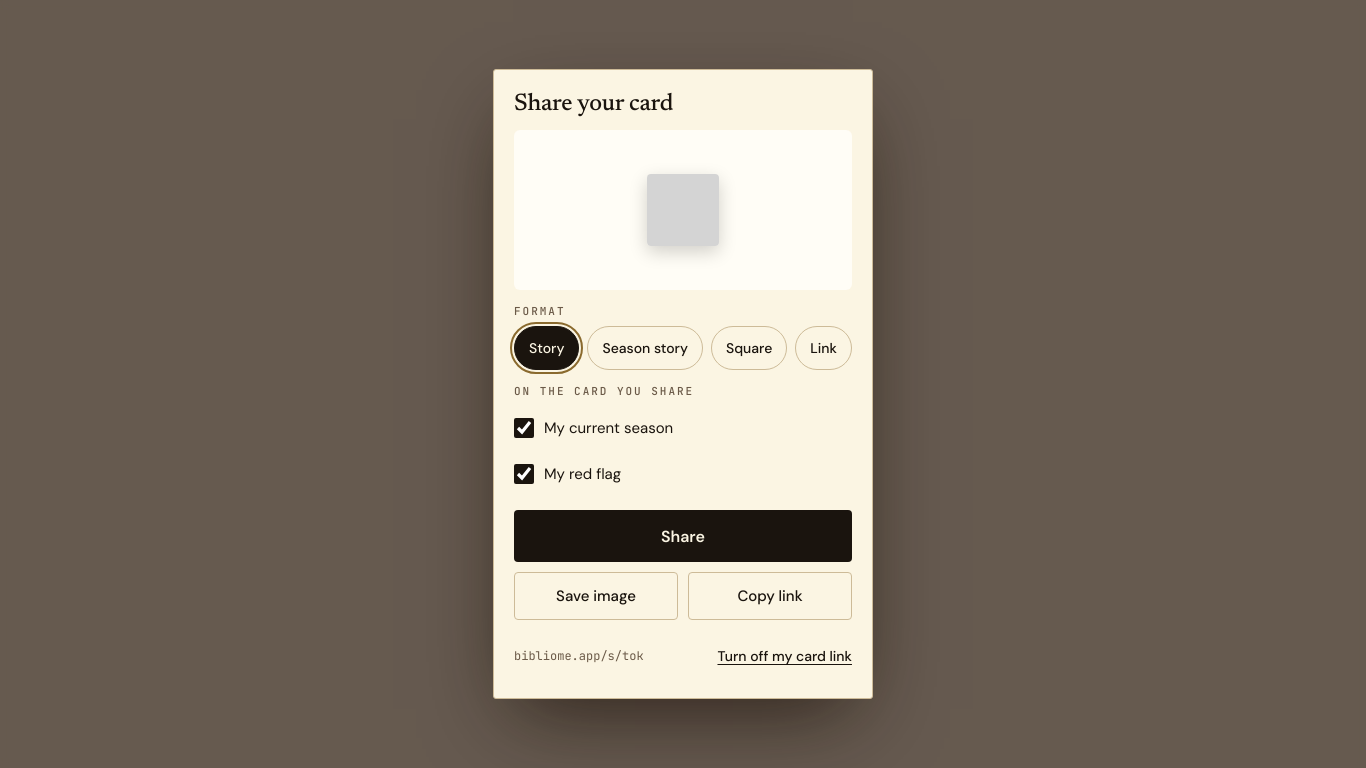
ShareSheet › offers the season story while a season is on, and drops it when switched off
Step 1. Click the radio button labelled "Season story" → [645, 348], box [587,326,703,370]
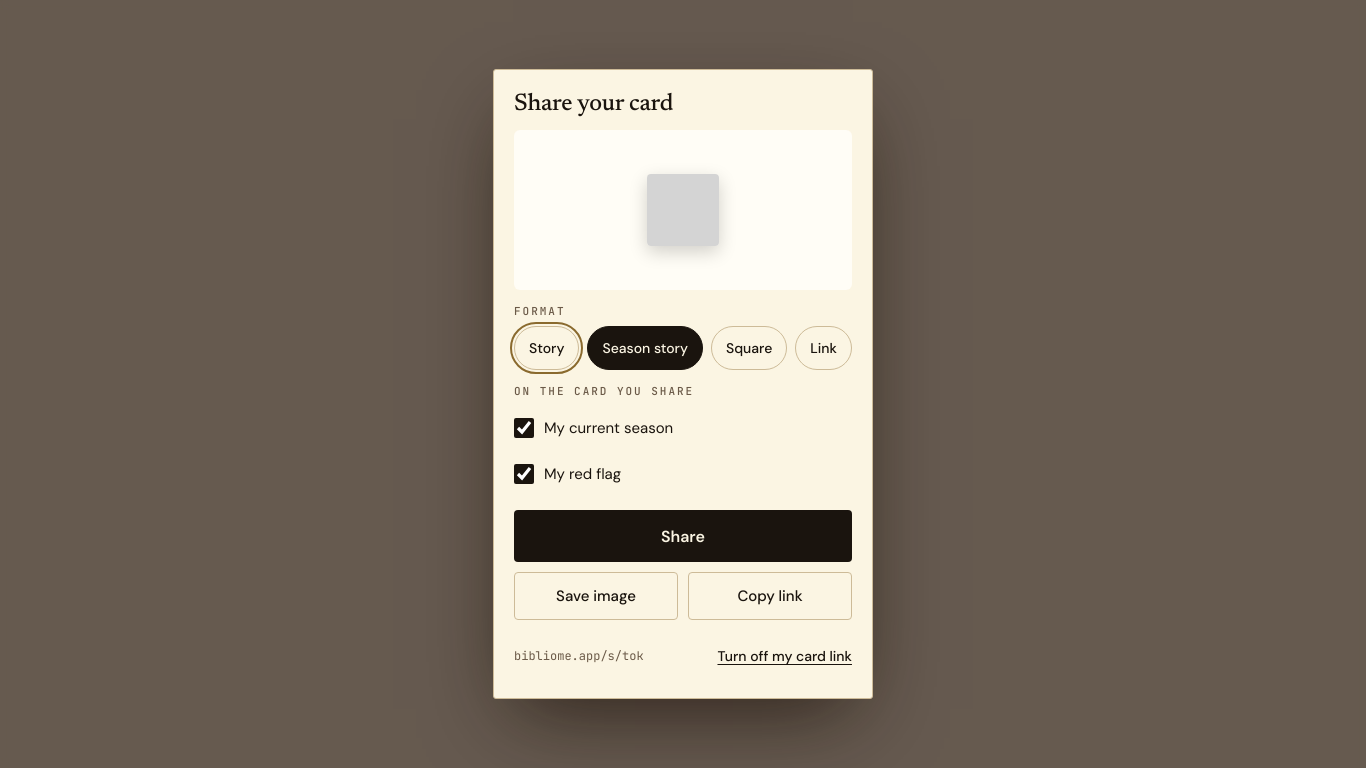
Step 2. Click the checkbox labelled "My current season" → [524, 428], box [514,418,534,438]
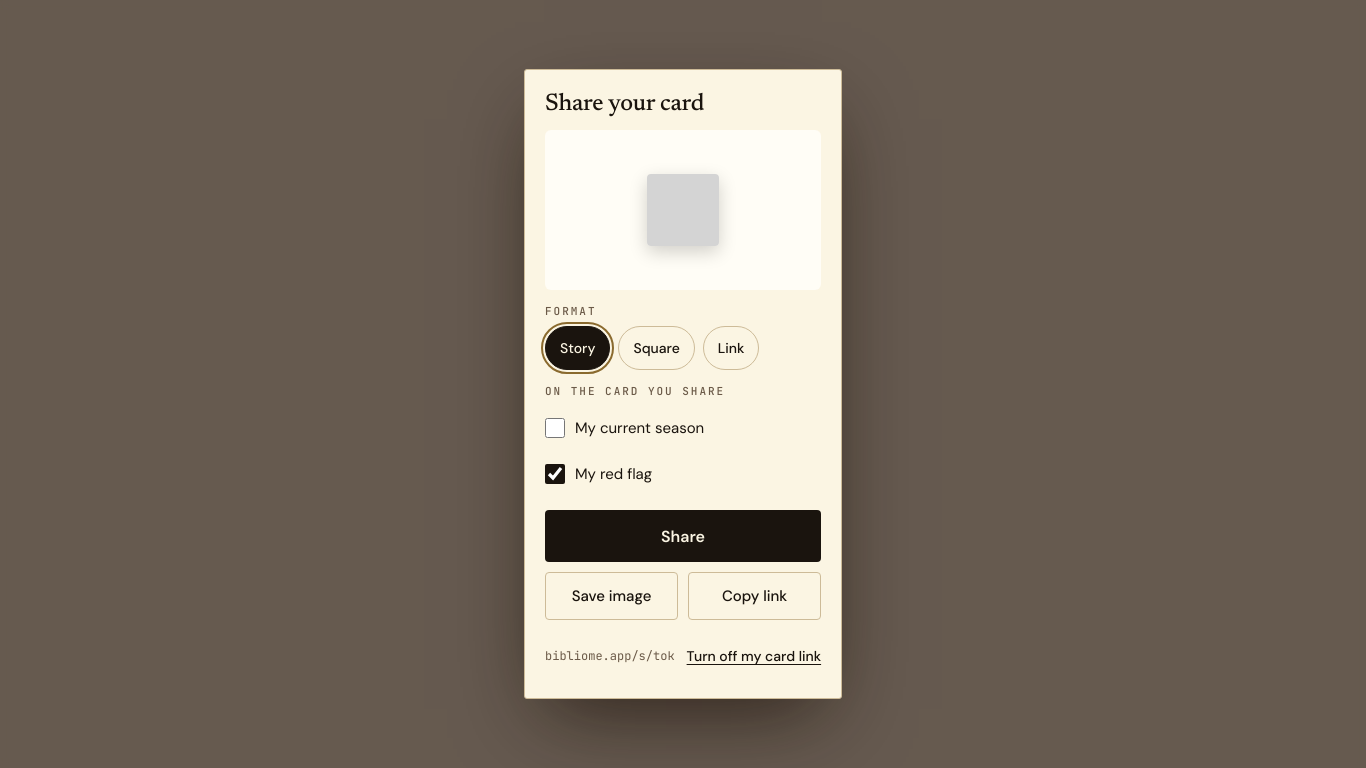
Expected: the radio button labelled "Season story" is gone
Expected: the radio button labelled "Story" is checked, [545,326,610,370]
